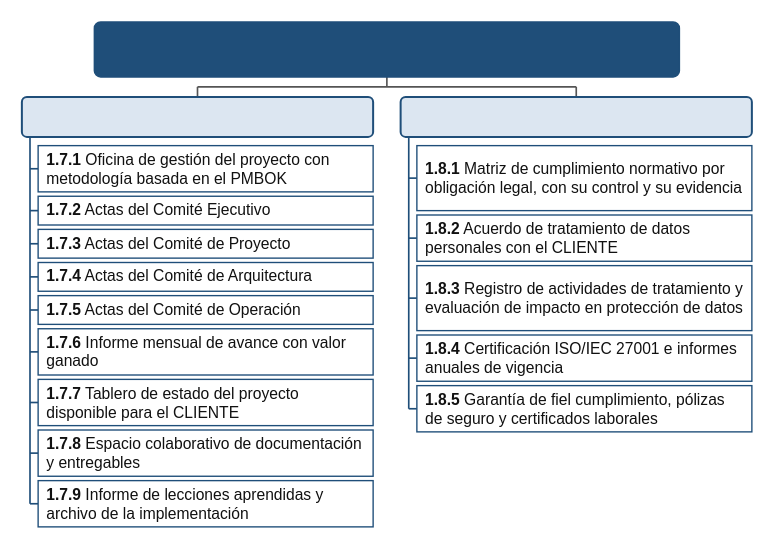
This 775x550 diagram has some shape labels left out. The centre of each missing label's shape, as x and y in pixels:
1. Gestión del proyecto (2 de 2): [386,48]
1.7 Gobierno, control y cierre: [197,116]
1.8 Cumplimiento normativo y contractual: [575,116]
